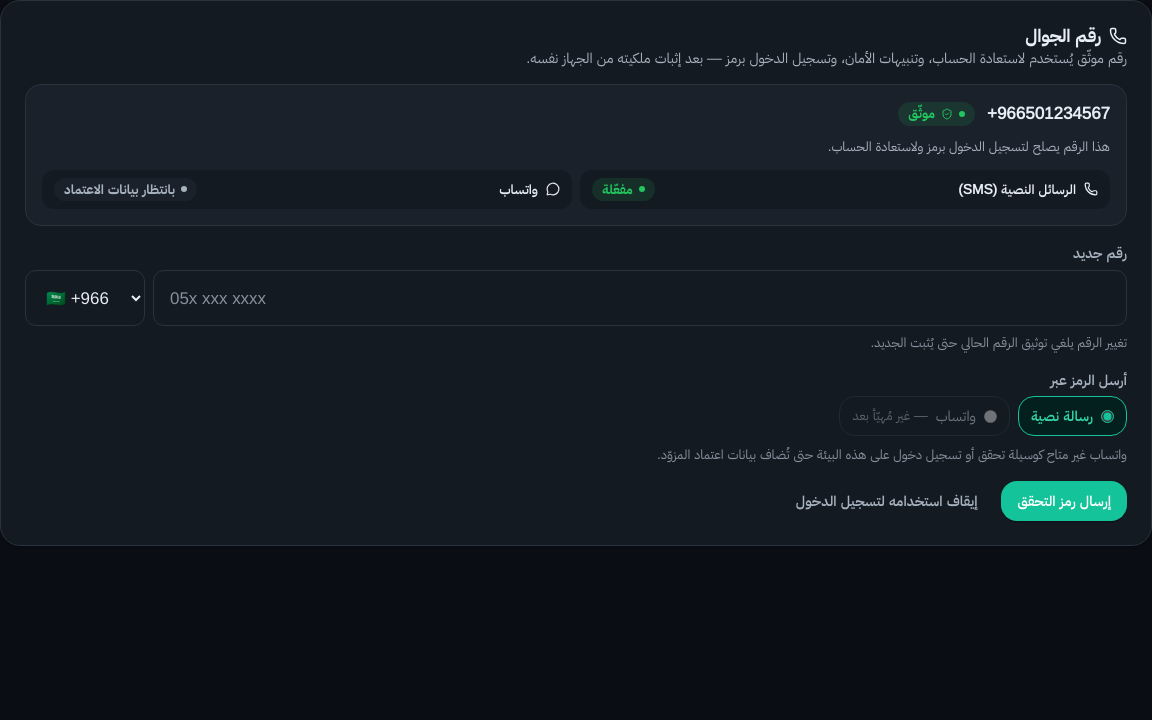
Test: AUTH-PHONE-001 — the mobile number in Account security › withdraws the number as a sign-in method
Expected: the element with test id "phone-state" is shown, [898,102,975,126]
Click the button with test id "phone-revoke" at [887, 501], box [780,481,994,521]
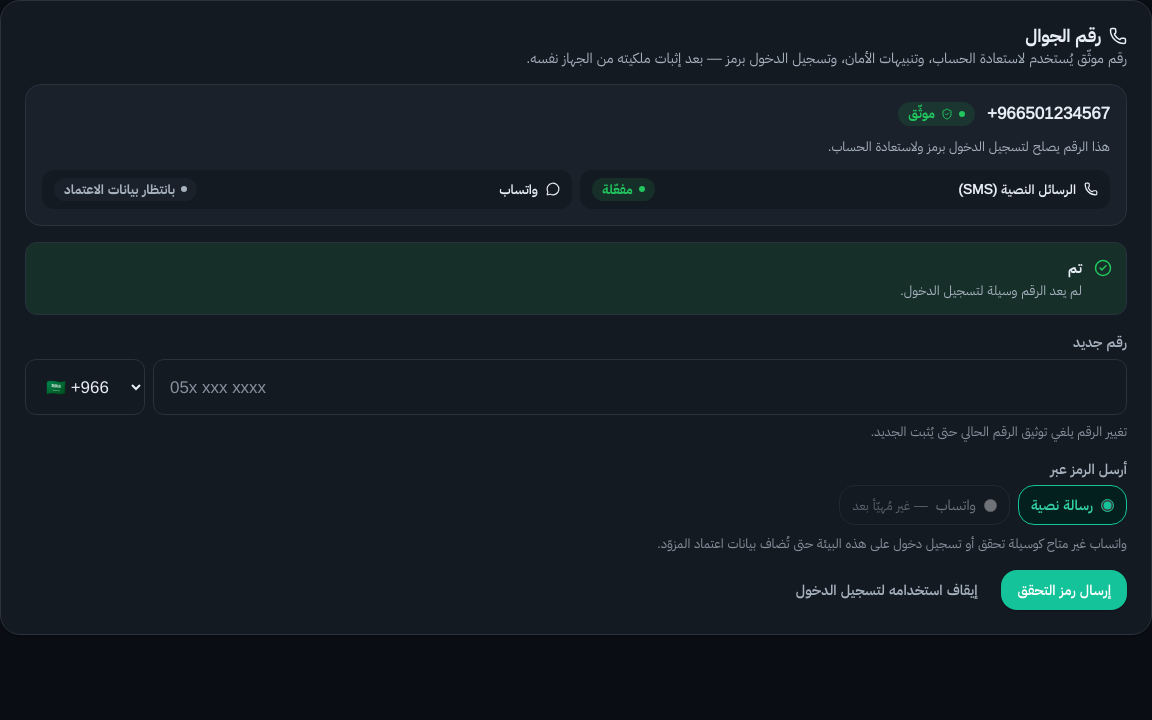
Expected: the text "لم يعد الرقم وسيلة لتسجيل الدخول." is shown, [900,281,1082,300]
